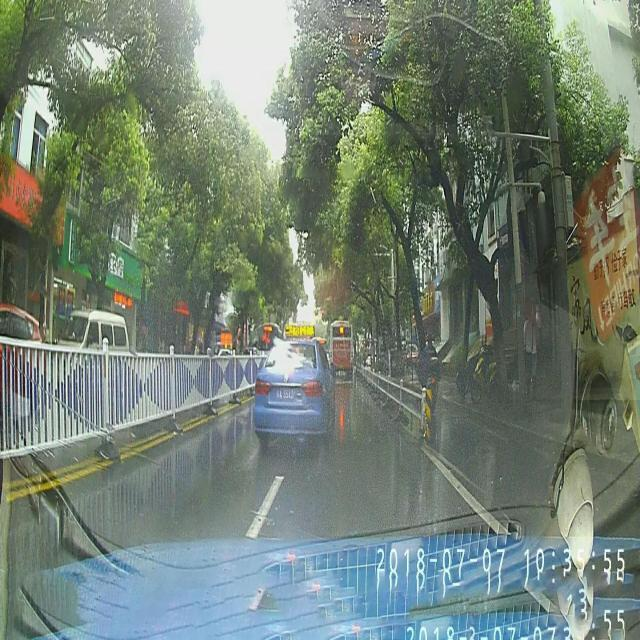car: (252, 324, 336, 438), (56, 311, 130, 404), (0, 300, 43, 412)
